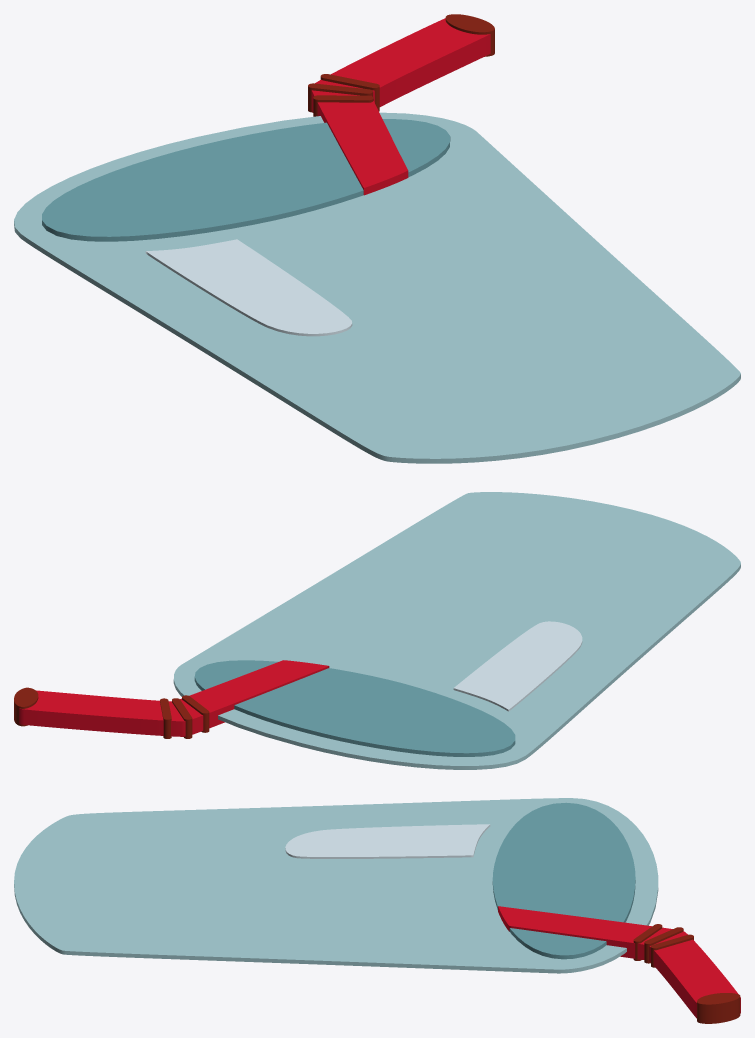
The model's file is emoji_u1f964.glb.
The picture shows the model from 3 angles, top to bottom: view 1: azimuth 30°, elevation 25°; view 2: azimuth 150°, elevation 25°; view 3: azimuth 270°, elevation 25°; orthographic projection. The views are drawn at different scales.
Visible parts, largest first — view 1: emoji_u1f964; view 2: emoji_u1f964; view 3: emoji_u1f964.
Part boxes in pixels (x1,y1,x2,y2): emoji_u1f964: (14, 14, 740, 463); emoji_u1f964: (14, 492, 740, 769); emoji_u1f964: (14, 798, 740, 1023).
Size of the model in its own units: 0.0237 by 0.001 by 0.034.
